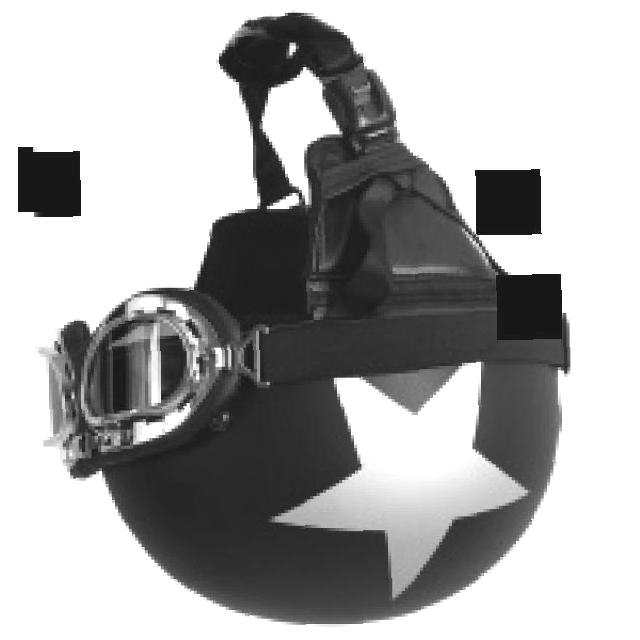helmet: (34, 13, 572, 629)
